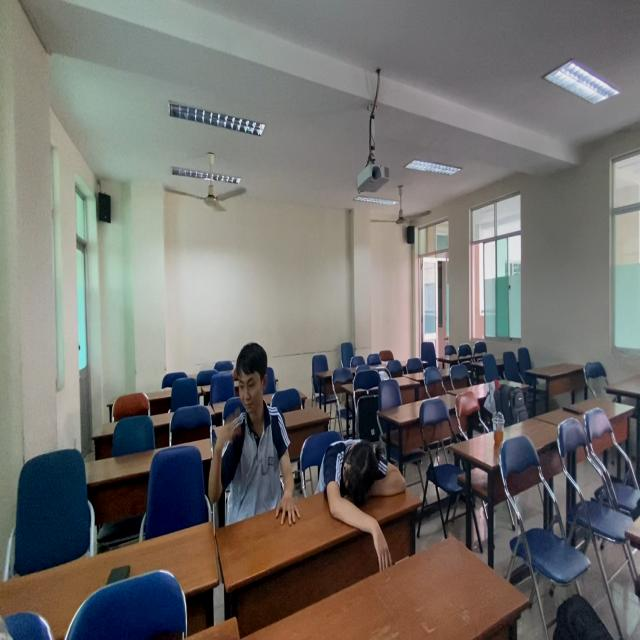sleep: (308, 430, 403, 547)
